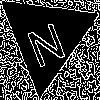N: (21, 13, 69, 69)
